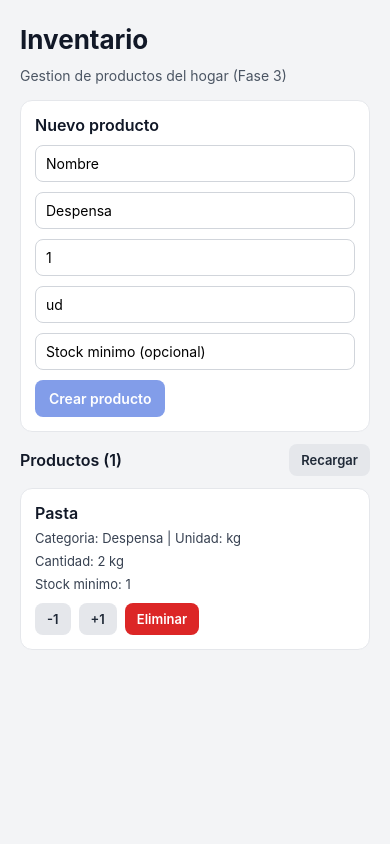
Test: InventoryScreen › elimina un producto del listado
expect the text "Pasta" is shown: met, box [35,503,78,523]
Click the element showing "Eliminar": (162, 619) [125,603,199,635]
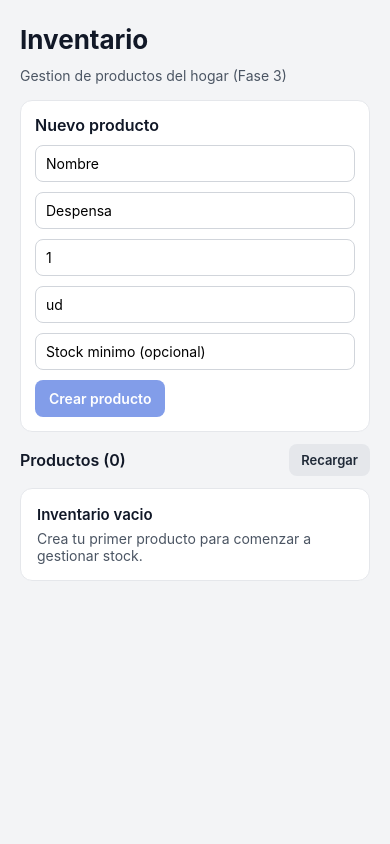
expect the text "Inventario vacio" is shown: met, box [37,505,153,524]
